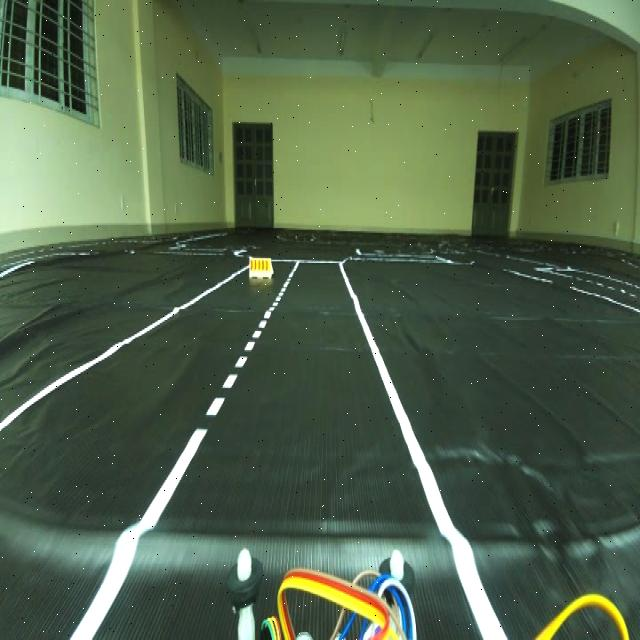roadblock: (247, 250, 275, 288)
